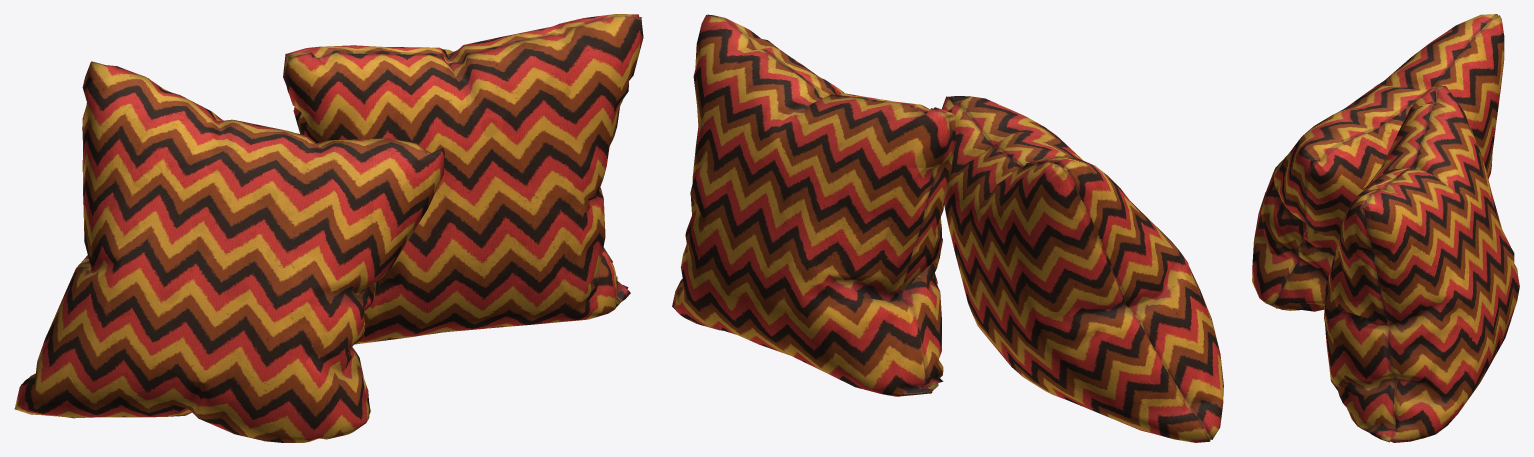
The model's file is throw_pillows_01.glb.
3 views of the same model, side by side, from view 1: azimuth 30°, elevation 25°; view 2: azimuth 150°, elevation 25°; view 3: azimuth 270°, elevation 25° (orthographic). The views are drawn at different scales.
Parts seen in each view (by area): view 1: throw_pillows_01_pillow01, throw_pillows_01_pillow02; view 2: throw_pillows_01_pillow02, throw_pillows_01_pillow01; view 3: throw_pillows_01_pillow02, throw_pillows_01_pillow01.
Boxes of the visible parts, x1,y1,x2,y2 form: throw_pillows_01_pillow01: (14,61,444,442); throw_pillows_01_pillow02: (283,14,643,344); throw_pillows_01_pillow02: (672,14,955,396); throw_pillows_01_pillow01: (942,96,1223,442); throw_pillows_01_pillow02: (1324,85,1519,442); throw_pillows_01_pillow01: (1252,14,1504,311).
Bounding box in the file's own units: 0.9399 × 0.45 × 0.452.
1 material, 1 textured.
